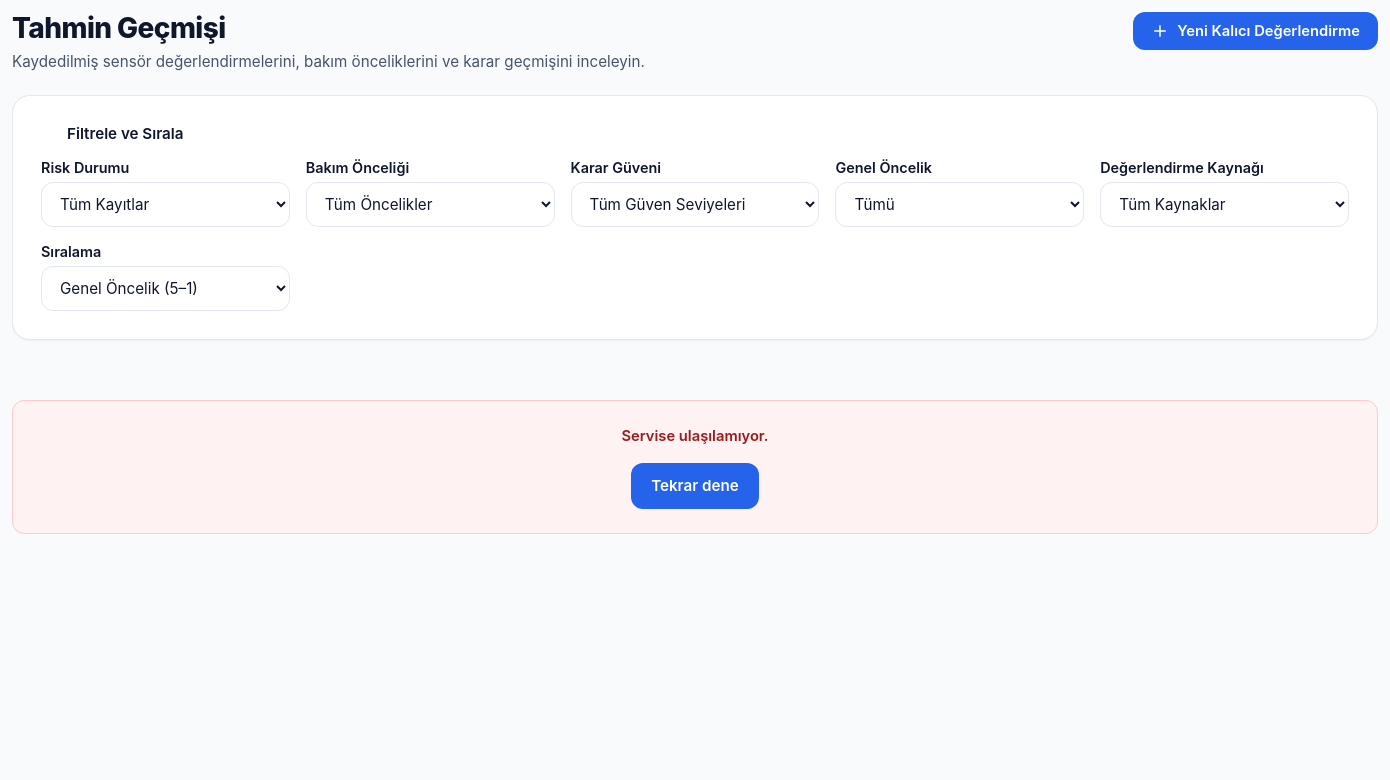
TahminGecmisi › API hatası durumunda ErrorState sunar ve tekrar deneme olanağı verir
Expected: the text "Servise ulaşılamıyor." is shown, 622,427 -> 768,445
Click the button "Tekrar dene".
click(695, 486)  # box 631,463 -> 759,510
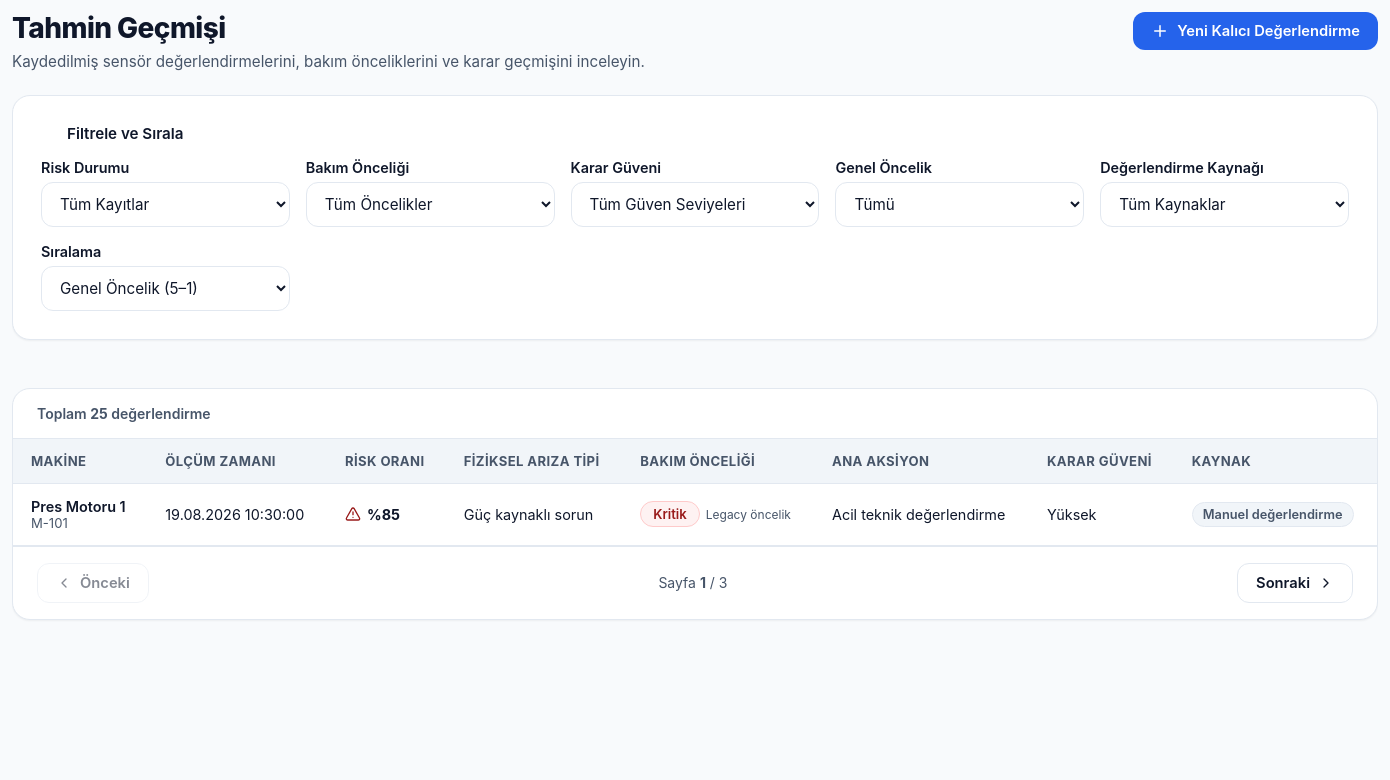
Expected: the text "Pres Motoru 1" is shown, 31,498 -> 129,515
